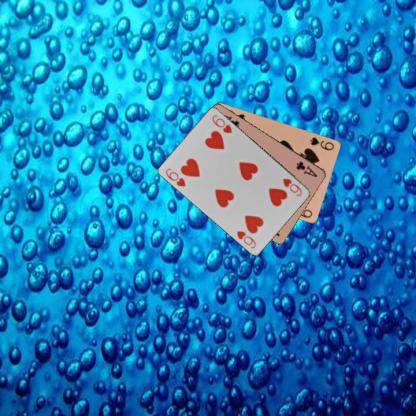6h: (163, 166, 187, 188), (280, 176, 303, 198)
9s: (307, 134, 335, 152)
Ac: (293, 159, 319, 178)
